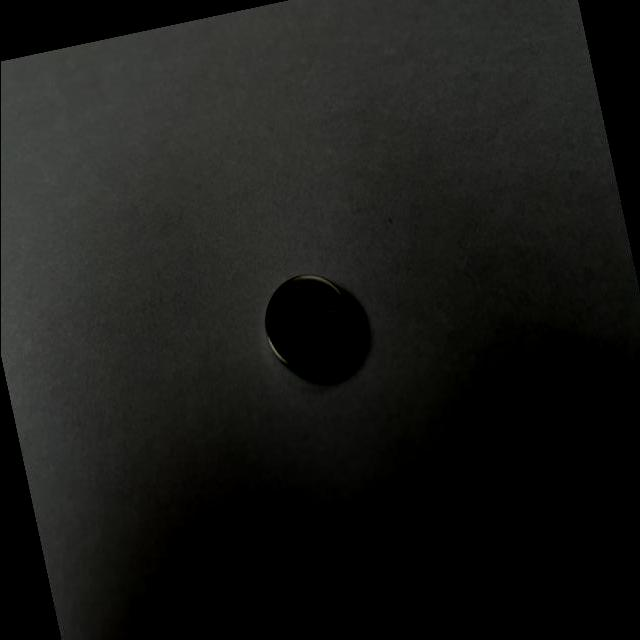COIN: (256, 263, 367, 382)
